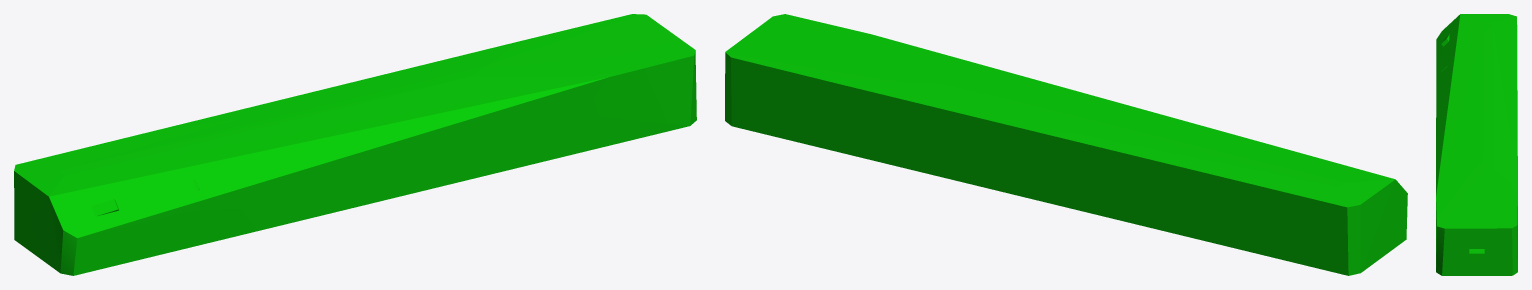
File: UCX_PowerStrip2.fbx
The picture shows the model from 3 angles, left to right: view 1: azimuth 30°, elevation 25°; view 2: azimuth 150°, elevation 25°; view 3: azimuth 270°, elevation 25°; orthographic projection. The views are drawn at different scales.
Parts seen in each view (by area): view 1: UCX_PowerStrip2; view 2: UCX_PowerStrip2; view 3: UCX_PowerStrip2.
Part boxes in pixels (box(x1,y1,x2,y2)): UCX_PowerStrip2: box(14, 14, 696, 275); UCX_PowerStrip2: box(725, 14, 1407, 275); UCX_PowerStrip2: box(1436, 14, 1517, 275).
Size of the model in its own units: 0.3169 by 0.0325 by 0.05.
